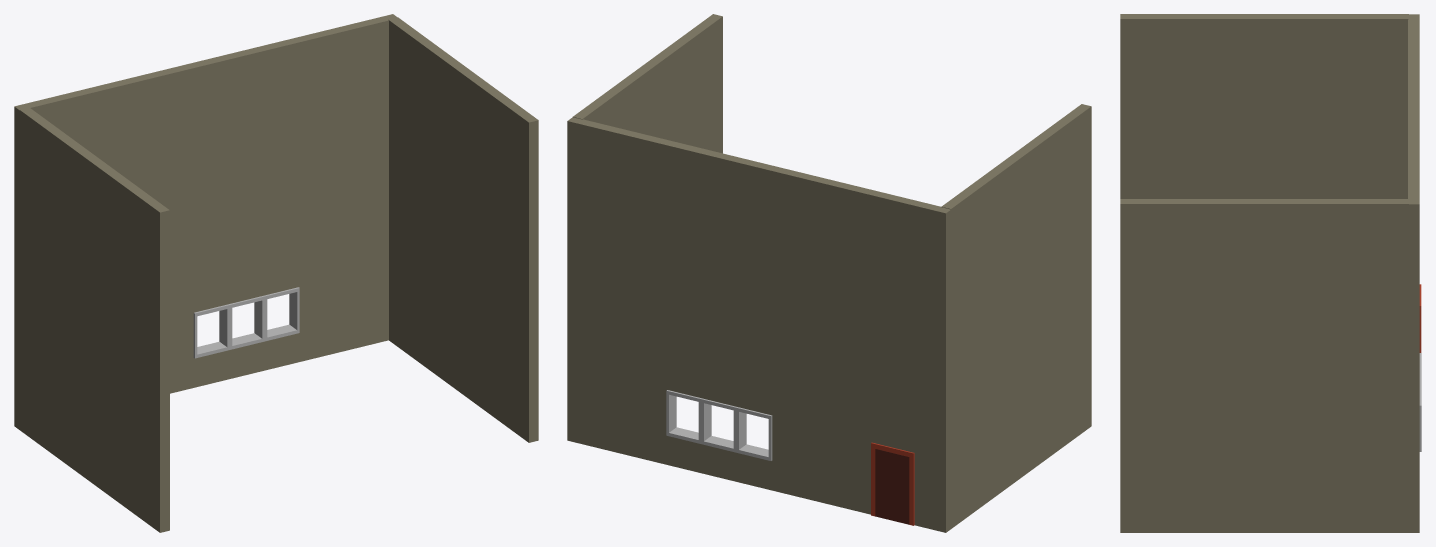
Rendered from CuartoOficina.fbx.
3 renders of one model, left to right at view 1: azimuth 30°, elevation 25°; view 2: azimuth 150°, elevation 25°; view 3: azimuth 270°, elevation 25°, orthographic. The views are drawn at different scales.
Visible parts, largest first — view 1: ParedOfic, ParedI, ParedD; view 2: ParedOfic, ParedI, ParedD, TruePuerta, TrueMarco; view 3: ParedD, ParedI, ParedOfic.
Part boxes in pixels (x1=…): ParedOfic: x1=14, y1=14, x2=397, y2=429; ParedI: x1=20, y1=107, x2=169, y2=532; ParedD: x1=388, y1=17, x2=538, y2=442; ParedOfic: x1=567, y1=117, x2=951, y2=532; ParedI: x1=941, y1=104, x2=1091, y2=528; ParedD: x1=573, y1=14, x2=722, y2=153; TruePuerta: x1=875, y1=449, x2=909, y2=524; TrueMarco: x1=871, y1=442, x2=914, y2=525; ParedD: x1=1120, y1=199, x2=1408, y2=532; ParedI: x1=1120, y1=14, x2=1408, y2=198; ParedOfic: x1=1408, y1=14, x2=1421, y2=532.
Bounding box in the file's own units: 2720 × 2198 × 1826.
